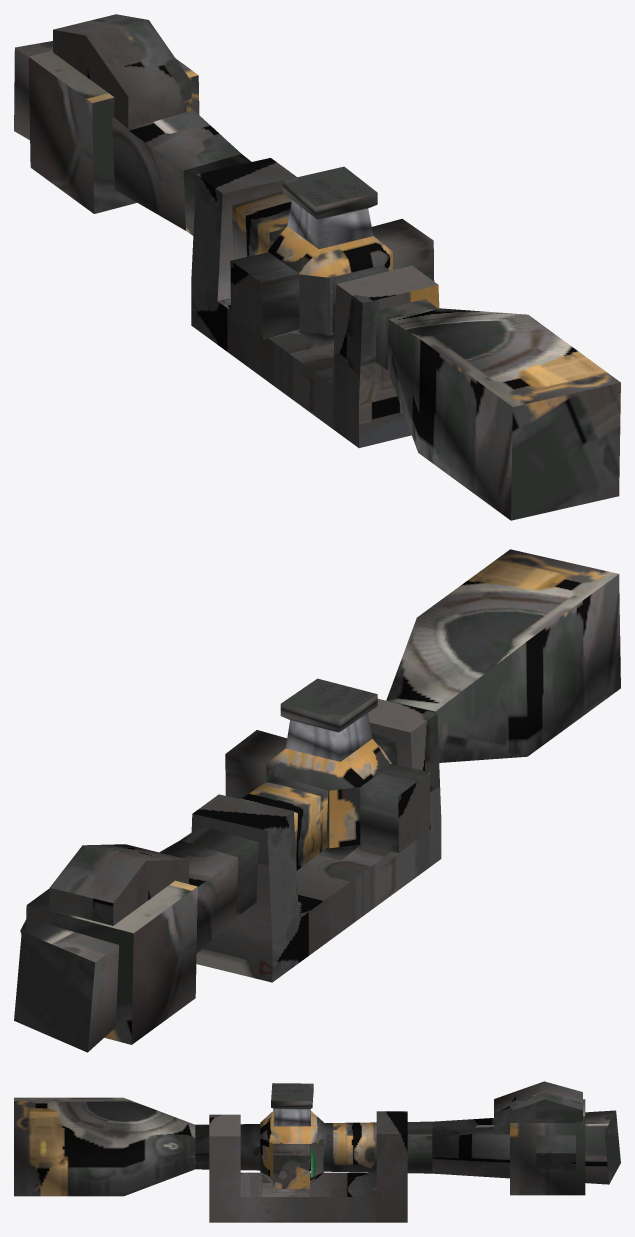
The model's file is Sniper_Rifle_jjq_jmj_02_lod2_Sniper_Scope_LOD_(001067).glb.
3 views of the same model, one above another, from view 1: azimuth 30°, elevation 25°; view 2: azimuth 150°, elevation 25°; view 3: azimuth 270°, elevation 25° (orthographic). The views are drawn at different scales.
Parts seen in each view (by area): view 1: jjq_jmj_02_lod2; view 2: jjq_jmj_02_lod2; view 3: jjq_jmj_02_lod2.
Part boxes in pixels (x1,y1,x2,y2): jjq_jmj_02_lod2: (14, 14, 620, 520); jjq_jmj_02_lod2: (14, 549, 620, 1052); jjq_jmj_02_lod2: (14, 1081, 620, 1222).
Bounding box in the file's own units: 0.1062 × 0.1199 × 0.5491.
Materials: 1 (1 with a texture image).
